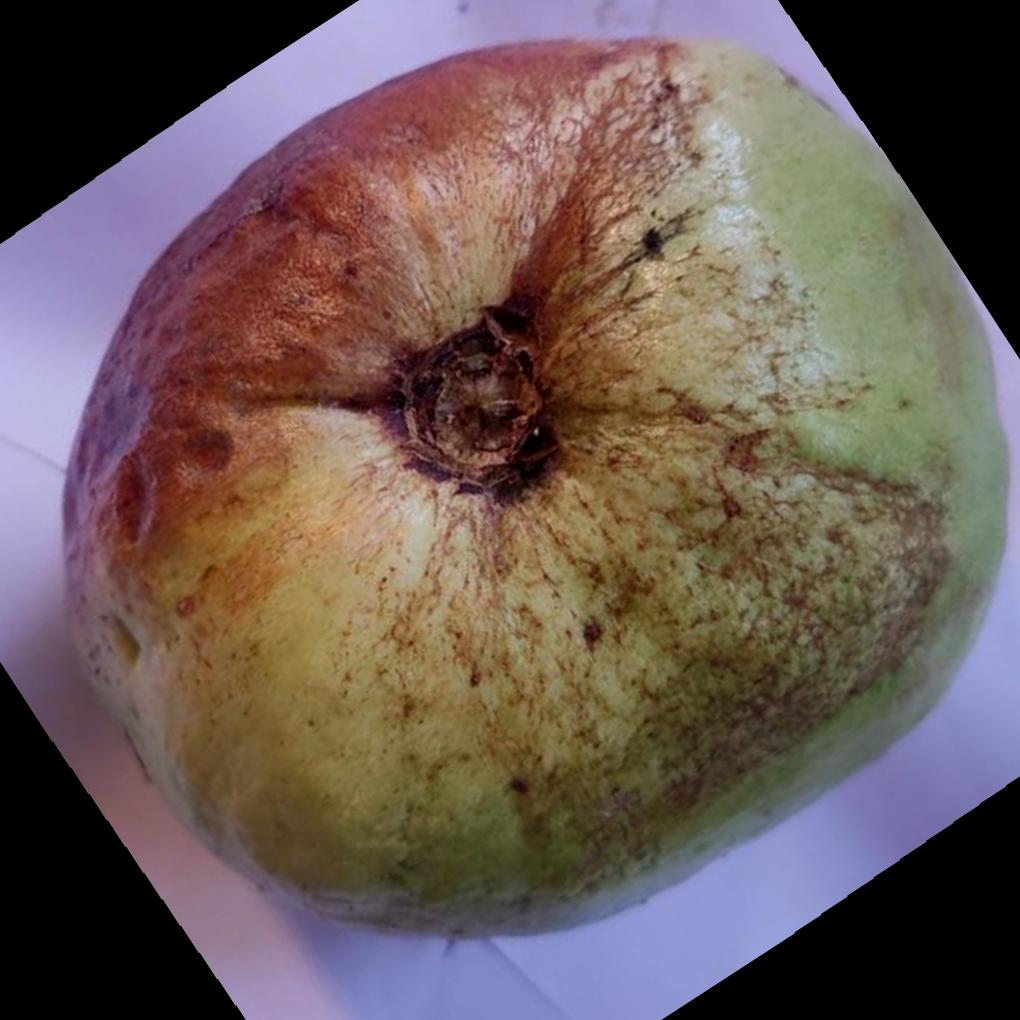FreshOrange: (62, 35, 1016, 943)
